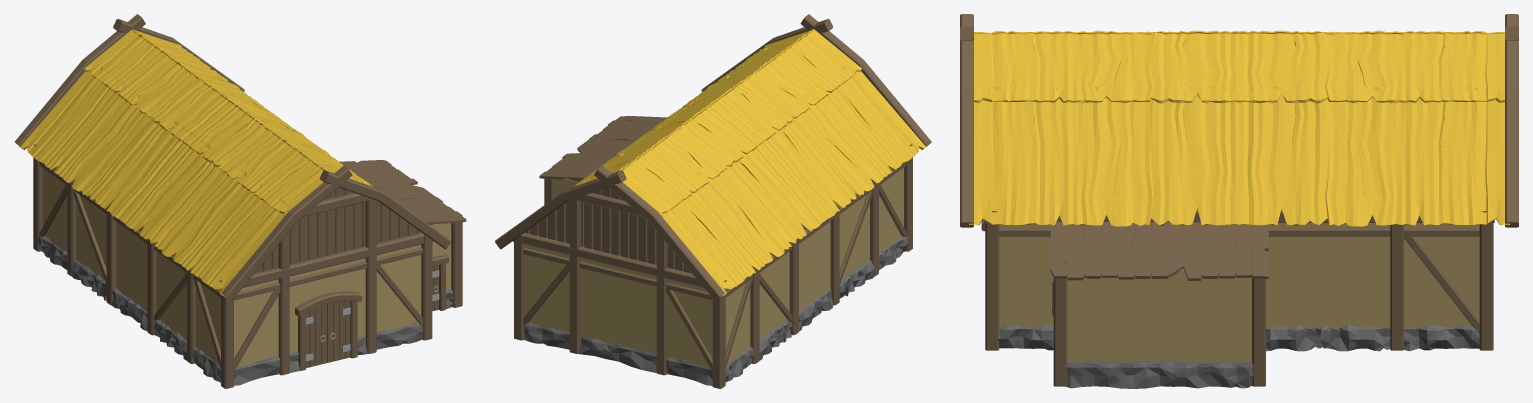
File: Storage.fbx
3 renders of one model, left to right at view 1: azimuth 30°, elevation 25°; view 2: azimuth 150°, elevation 25°; view 3: azimuth 270°, elevation 25°, orthographic. The views are drawn at different scales.
Visible parts, largest first — view 1: Storage; view 2: Storage; view 3: Storage.
Part boxes in pixels (x1,y1,x2,y2): Storage: (15,14,466,388); Storage: (495,14,931,388); Storage: (960,14,1518,388).
Size of the model in its own units: 11.09 by 7.59 by 14.56.
